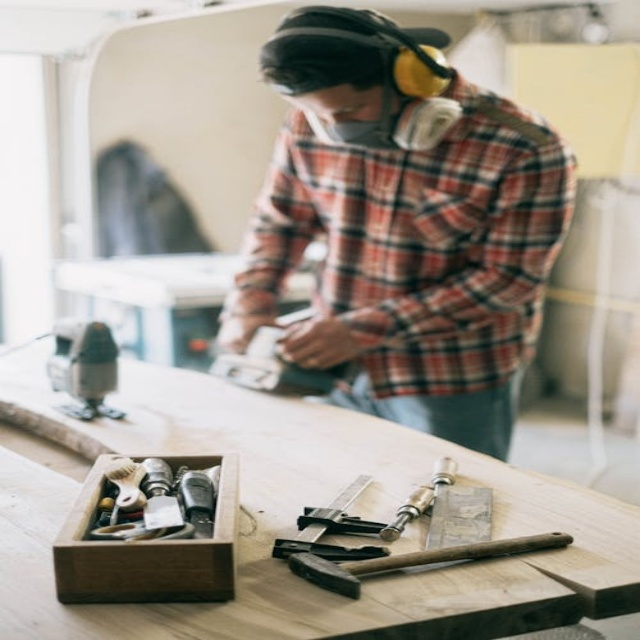Mascara: (316, 100, 396, 147)
Sin_gafas: (293, 93, 378, 121)
Sin_guantes: (274, 309, 370, 370), (215, 311, 274, 358)
